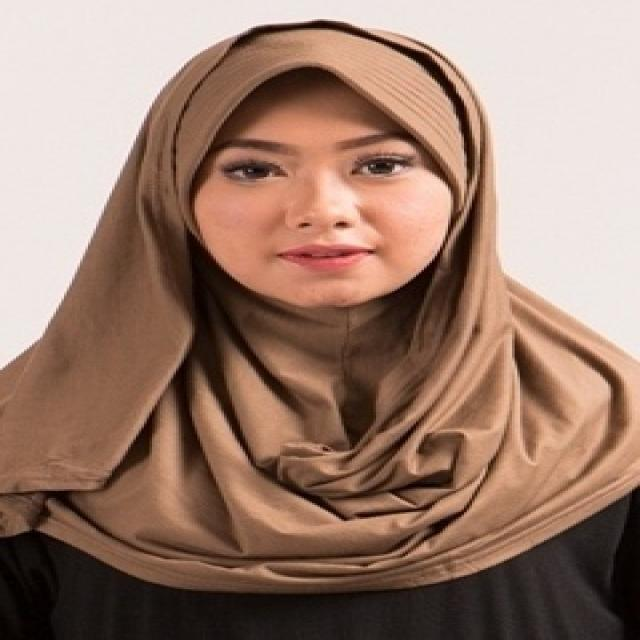head: (155, 33, 501, 312)
